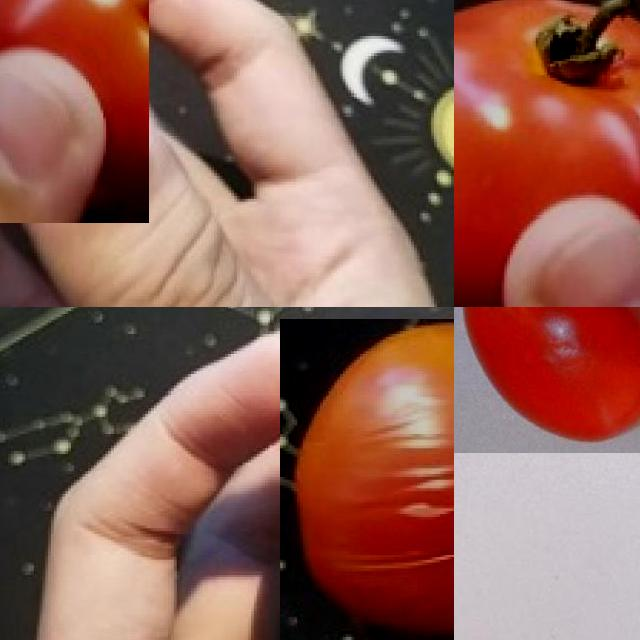0: (0, 0, 149, 223)
Fresh Tomato: (454, 0, 640, 307), (454, 307, 640, 453)
Rotten Tomato: (280, 319, 454, 640)
